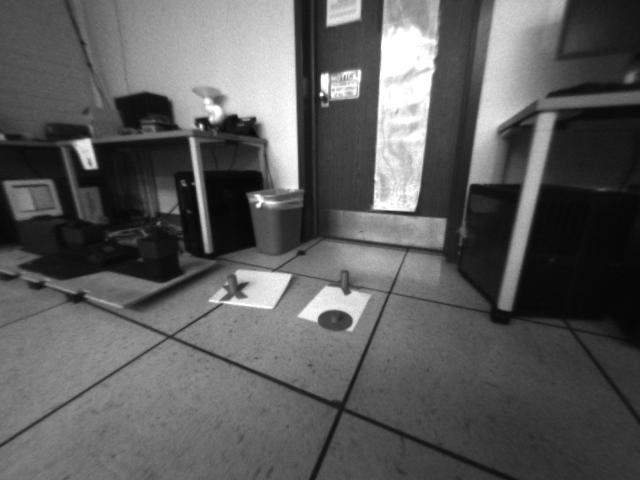X: (220, 273, 253, 300), (328, 269, 362, 295)
